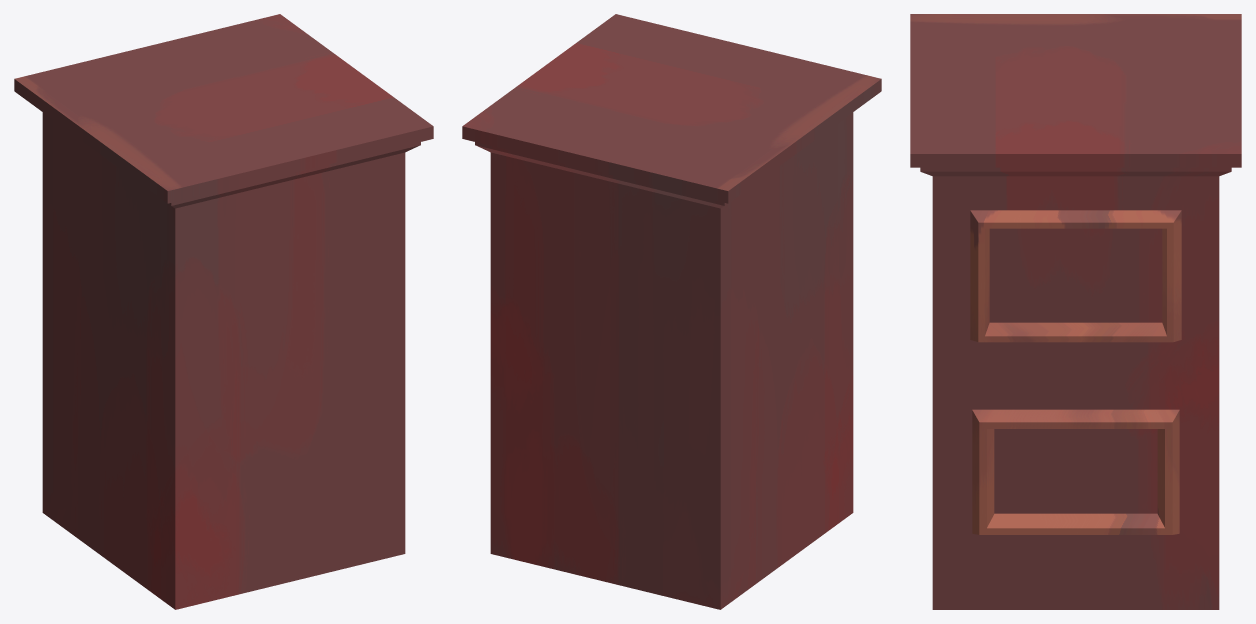
Rendered from PinkChest.fbx.
3 views of the same model, side by side, from view 1: azimuth 30°, elevation 25°; view 2: azimuth 150°, elevation 25°; view 3: azimuth 270°, elevation 25° (orthographic). The views are drawn at different scales.
Visible parts, largest first — view 1: 立方体.017; view 2: 立方体.017; view 3: 立方体.017.
Boxes of the visible parts, x1,y1,x2,y2 form: 立方体.017: [14, 14, 433, 609]; 立方体.017: [462, 14, 881, 609]; 立方体.017: [910, 14, 1241, 609].
Bounding box in the file's own units: 231 × 358 × 231.
1 material, 1 textured.
